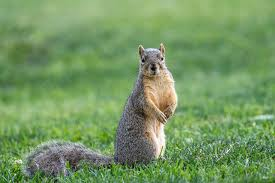squirrel: (26, 42, 178, 174)
